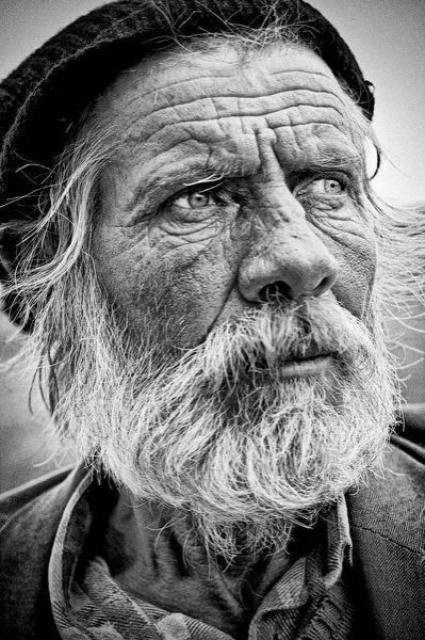crows_feet: (125, 206, 163, 238)
forehead: (209, 77, 254, 147), (152, 84, 198, 146), (306, 74, 342, 136), (262, 74, 298, 130)
frown_line: (249, 140, 287, 174)
gummy_smile: (203, 280, 237, 338)
masseter: (179, 225, 223, 263), (310, 210, 360, 243)
